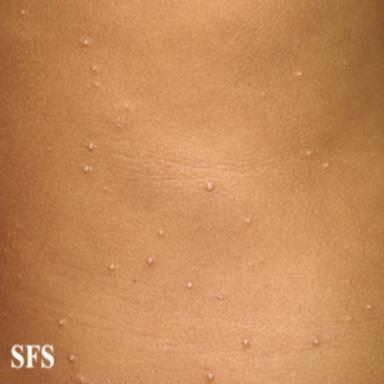Molluscum-Contagiosum: (114, 104, 131, 129), (79, 37, 90, 49), (305, 150, 313, 160), (90, 64, 98, 74), (216, 293, 226, 301), (242, 338, 250, 348), (342, 315, 352, 323), (88, 142, 96, 151), (93, 81, 101, 90), (83, 165, 92, 173), (12, 221, 21, 229), (147, 256, 155, 265), (68, 354, 76, 362), (206, 182, 213, 191), (157, 228, 164, 237), (109, 264, 116, 272), (247, 263, 254, 271), (59, 318, 65, 327), (187, 281, 193, 289), (208, 373, 214, 381), (313, 338, 319, 345), (365, 304, 372, 310), (245, 217, 251, 224), (296, 71, 302, 77), (323, 162, 329, 168), (261, 91, 265, 98), (21, 9, 25, 15)
